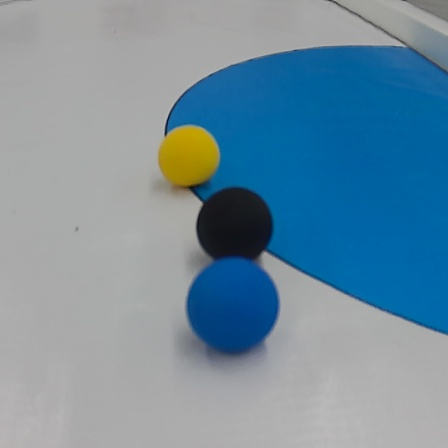black: (196, 188, 275, 260)
blue: (185, 258, 287, 356)
blue_base: (156, 38, 448, 336)
yellow: (156, 122, 218, 186)
